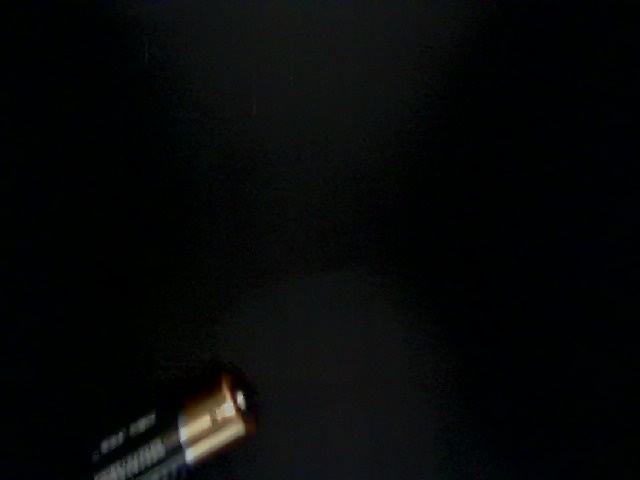QTLJ: (352, 279, 529, 480)
